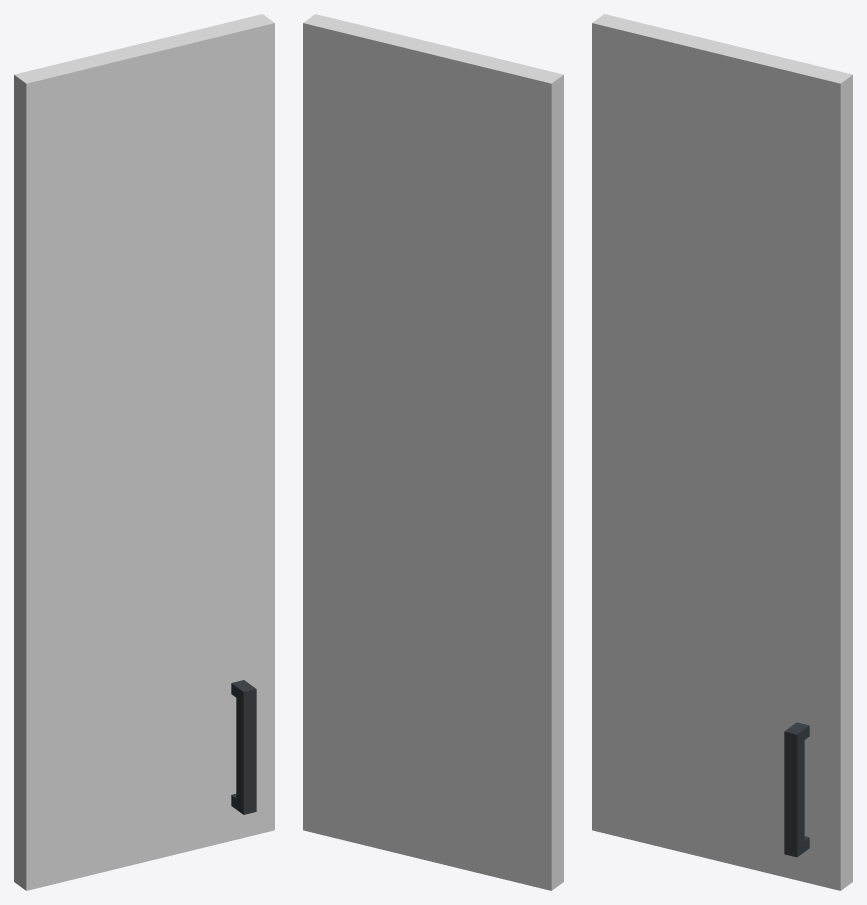
File: Door1_C1_14.fbx
3 renders of one model, left to right at view 1: azimuth 30°, elevation 25°; view 2: azimuth 150°, elevation 25°; view 3: azimuth 330°, elevation 25°, orthographic.
Visible parts, largest first — view 1: Door1_C1_14; view 2: Door1_C1_14; view 3: Door1_C1_14.
Part boxes in pixels (bbox=[...]): Door1_C1_14: bbox=[14, 14, 274, 890]; Door1_C1_14: bbox=[303, 14, 563, 890]; Door1_C1_14: bbox=[592, 14, 852, 890].
Size of the model in its own units: 29 by 90 by 5.03.
